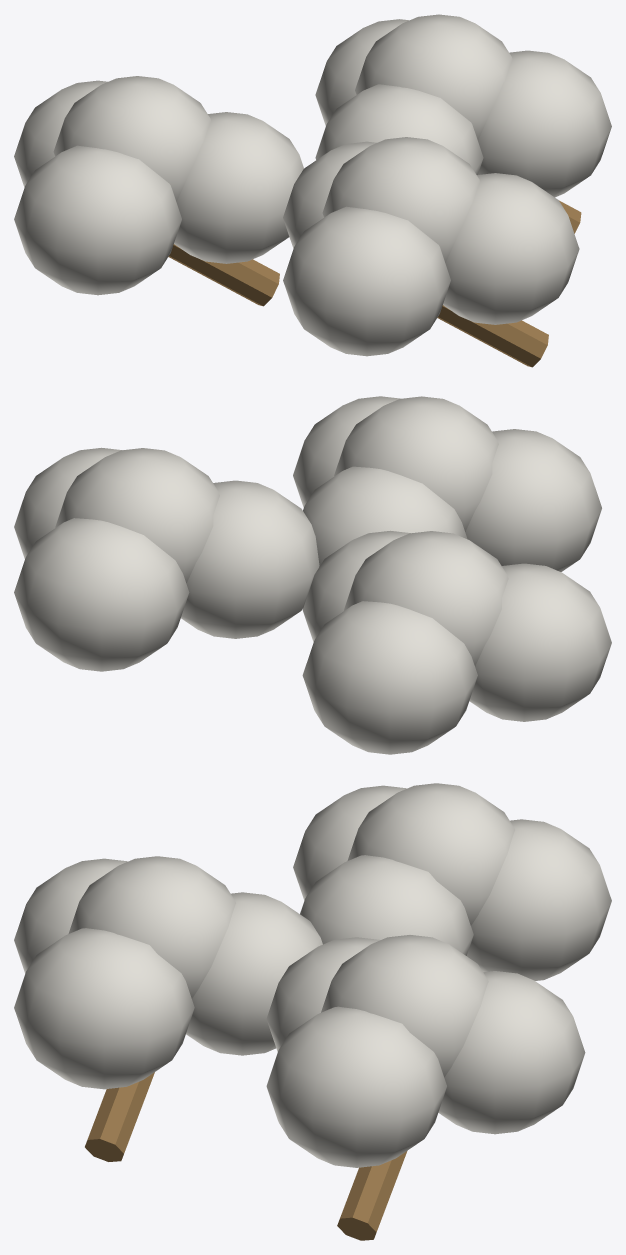
The model's file is item_cotton.glb.
3 views of the same model, one above another, from view 1: azimuth 30°, elevation 25°; view 2: azimuth 150°, elevation 25°; view 3: azimuth 270°, elevation 25° (orthographic). The views are drawn at different scales.
Parts seen in each view (by area): view 1: item_cotton; view 2: item_cotton; view 3: item_cotton.
Boxes of the visible parts, x1,y1,x2,y2 form: item_cotton: (14,14,611,367); item_cotton: (14,396,611,754); item_cotton: (14,783,611,1240).
Bounding box in the file's own units: 0.263 × 0.1017 × 0.225.
